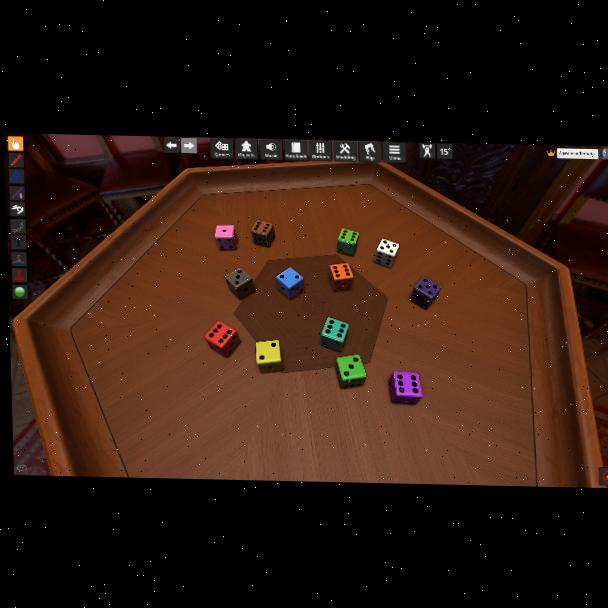d6: (204, 321, 239, 359), (389, 370, 422, 405), (408, 276, 440, 310), (335, 355, 366, 390), (224, 267, 255, 301), (255, 340, 284, 374), (275, 267, 304, 301), (323, 318, 351, 353), (327, 263, 355, 292), (372, 239, 398, 268), (335, 229, 359, 258), (250, 221, 275, 248), (214, 224, 236, 252)
